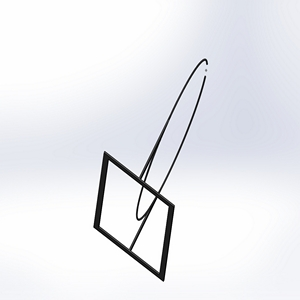circle: (90, 55, 210, 282)
